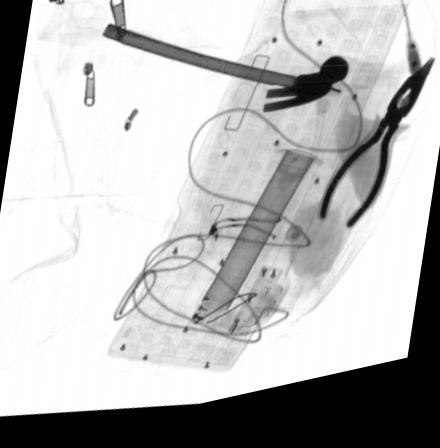Hammer: (101, 26, 349, 123)
Pliers: (315, 75, 435, 244)
